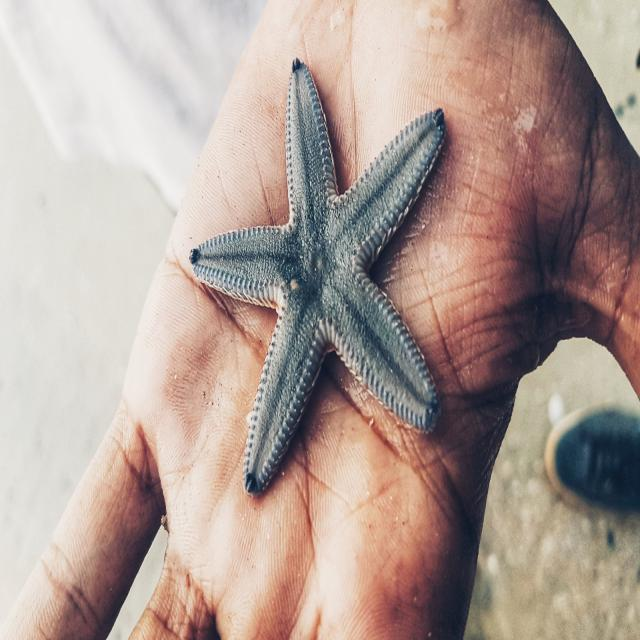starfish: (190, 60, 444, 493)
